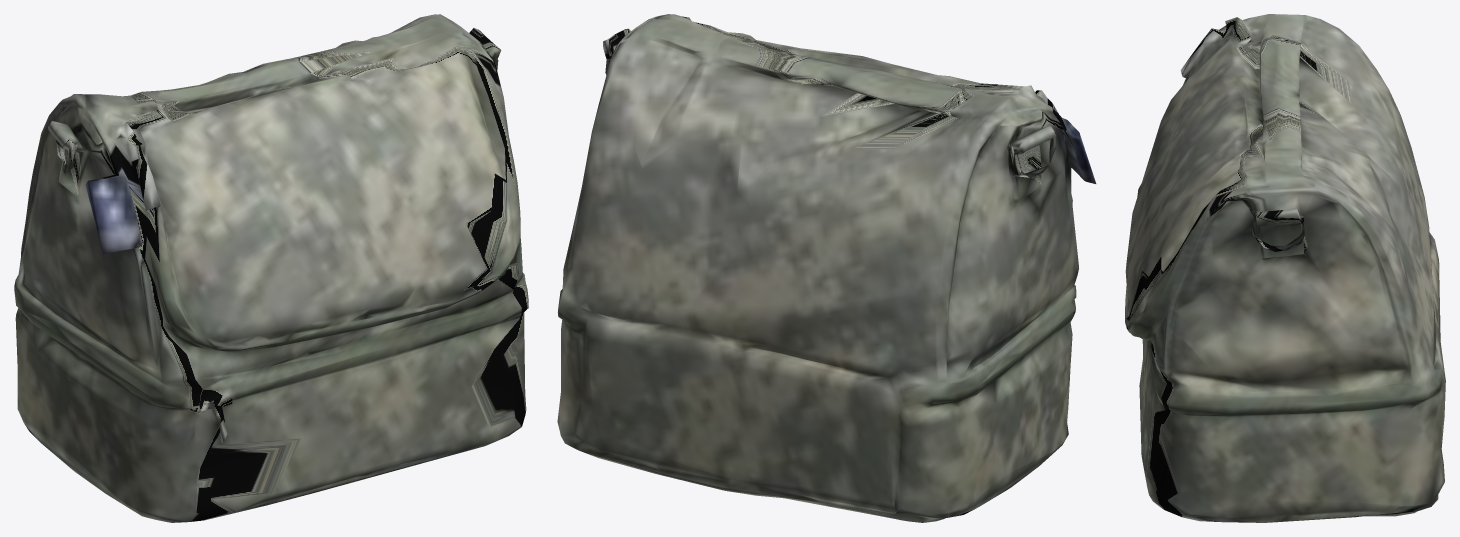
File: gso_digital_camo_double_decker_lunch_bag.glb
3 renders of one model, left to right at view 1: azimuth 30°, elevation 25°; view 2: azimuth 150°, elevation 25°; view 3: azimuth 270°, elevation 25°, orthographic. The views are drawn at different scales.
Parts seen in each view (by area): view 1: z-up-to-y-up; view 2: z-up-to-y-up; view 3: z-up-to-y-up.
Part boxes in pixels (x1,y1,x2,y2): z-up-to-y-up: (14, 14, 528, 522); z-up-to-y-up: (557, 14, 1096, 522); z-up-to-y-up: (1125, 14, 1445, 522).
Bounding box in the file's own units: 0.2603 × 0.2182 × 0.1813.
1 material, 1 textured.
